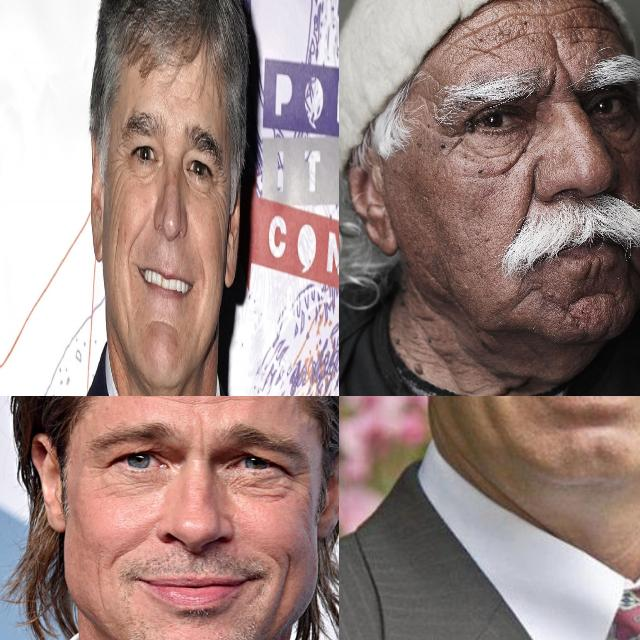chin: (573, 286, 613, 306), (519, 280, 545, 304), (150, 316, 176, 336), (584, 258, 602, 286), (124, 305, 132, 337)
crows_feet: (440, 122, 464, 154), (114, 144, 130, 191), (286, 468, 310, 492), (211, 174, 225, 210), (84, 458, 108, 479)
forehead: (458, 23, 496, 65), (576, 18, 616, 50), (500, 11, 530, 52), (170, 396, 232, 410), (538, 4, 570, 20)
frown_line: (549, 44, 571, 90), (192, 425, 212, 455)
gummy_smile: (105, 536, 147, 564), (517, 182, 539, 232), (125, 228, 139, 262), (198, 253, 208, 290)
masseter: (277, 555, 293, 623), (419, 260, 451, 290), (502, 146, 524, 178), (93, 569, 109, 613), (111, 220, 121, 274)
